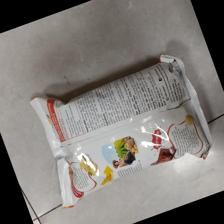Lays: (30, 54, 214, 212)
